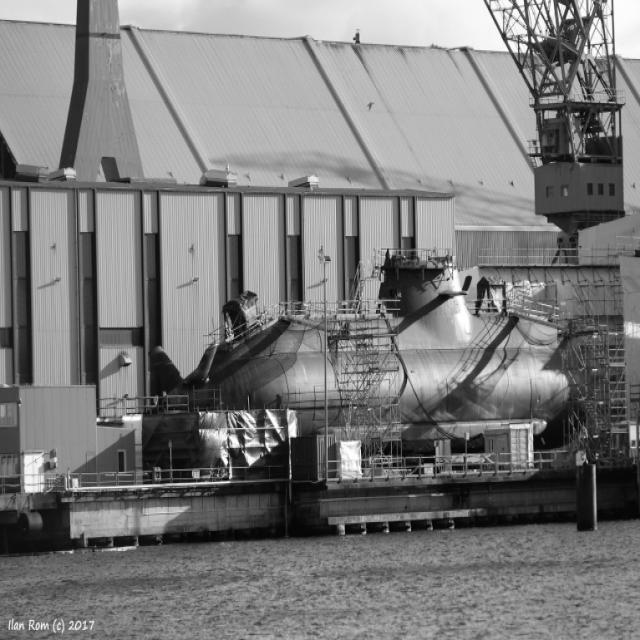submarine: (172, 261, 582, 420)
